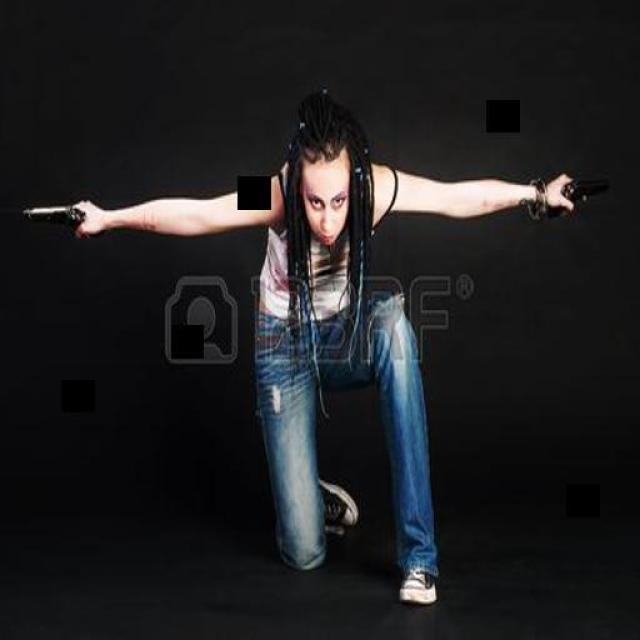gun: (542, 158, 622, 208), (22, 198, 94, 238)
